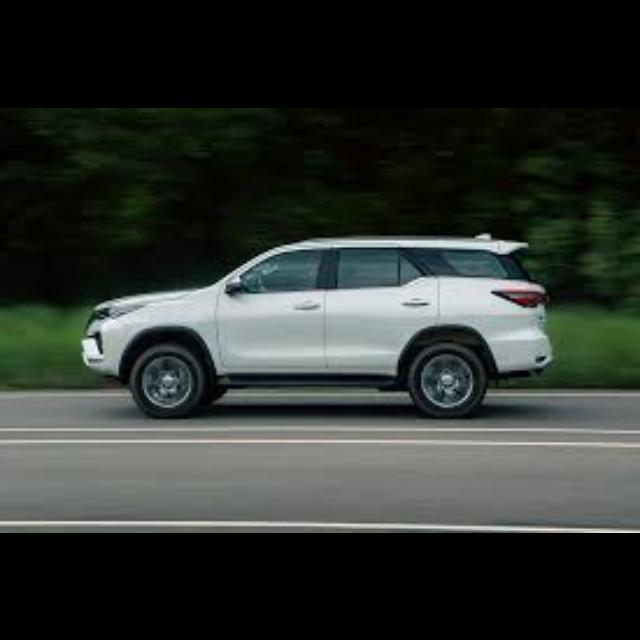number-plate: (82, 336, 105, 359)
vehicles: (75, 230, 564, 428)
